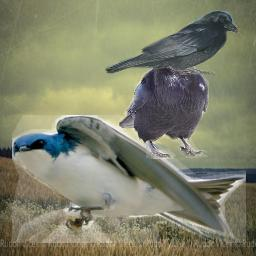Crow: (117, 41, 209, 159), (104, 10, 239, 75)
Swallow: (12, 115, 246, 243)
